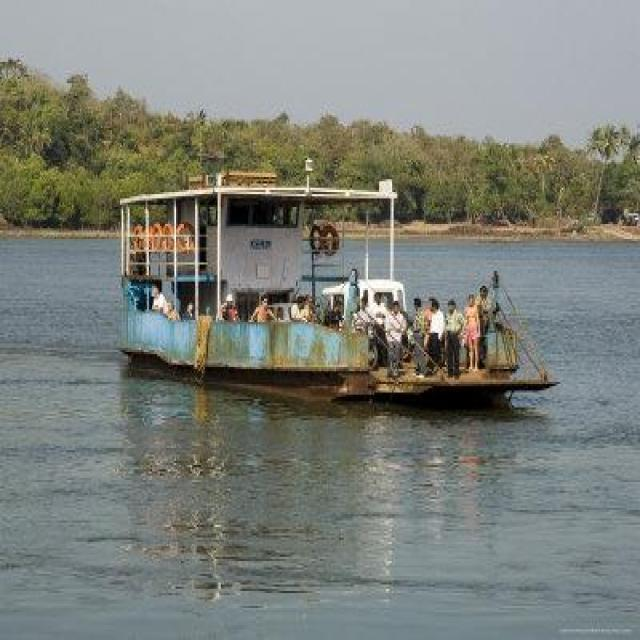houseboat: (103, 147, 552, 414)
